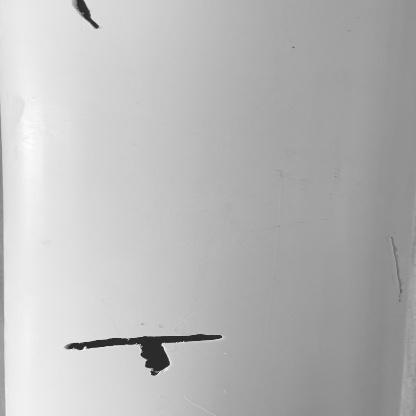fengxi: (59, 335, 235, 347)
kongdong: (64, 3, 113, 35), (136, 348, 173, 379)
sunshang: (388, 232, 406, 305)
